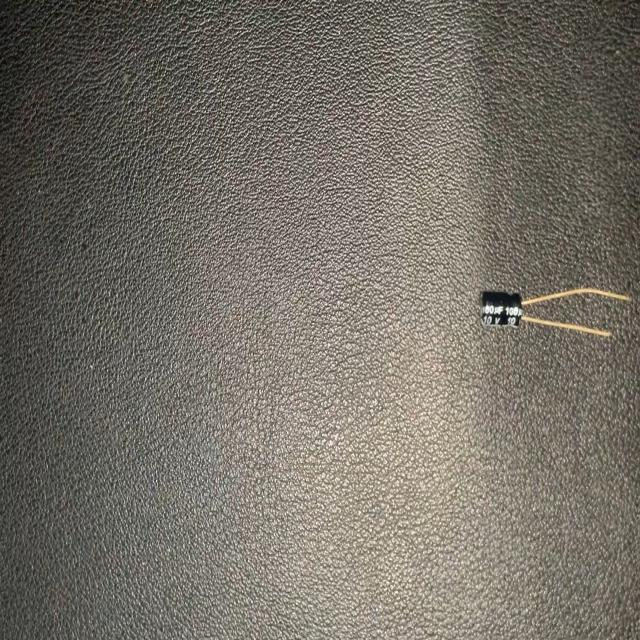capacitor: (478, 284, 632, 338)
